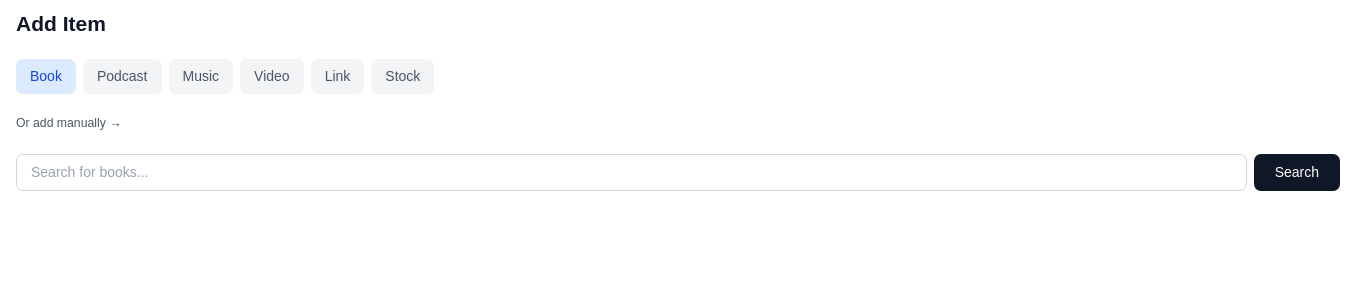
Test: AddItemForm - Episode Browsing › shows Browse Episodes button for podcast results
Switch to podcast type
Click the button "Podcast": [122, 76] box [83,59,162,94]
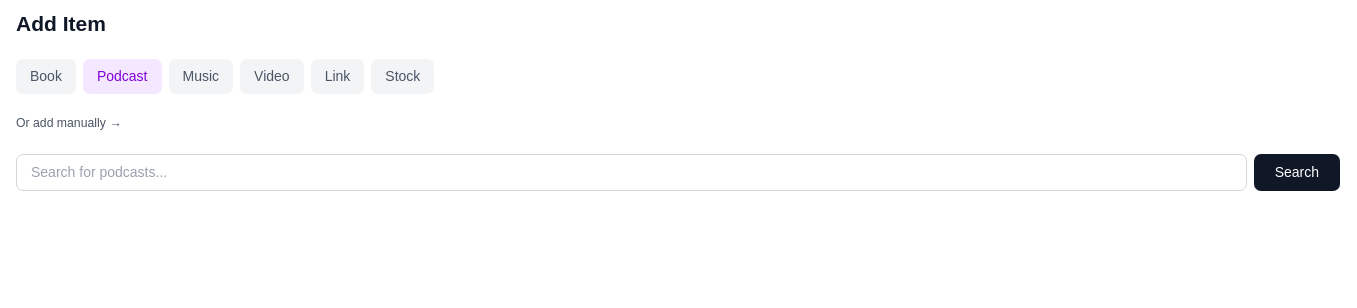
In the field with placeholder "Search for podcasts...": [631, 172] box [16,154,1247,190], type "test podcast"
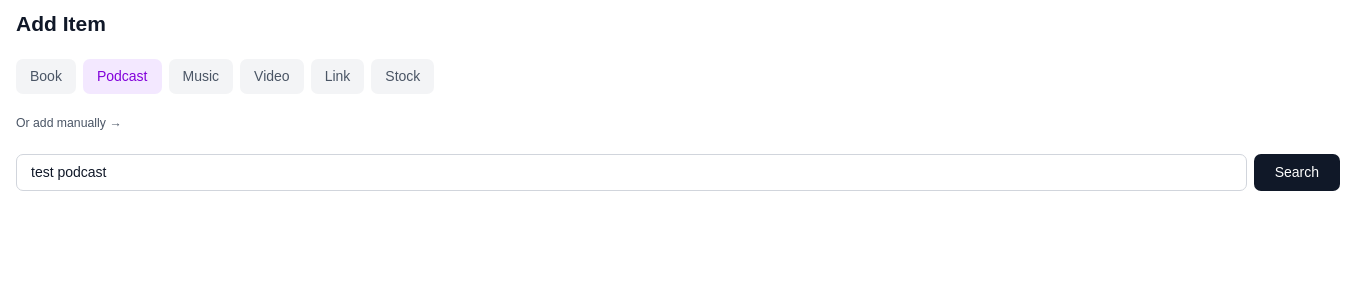
Click the button "Search": [1297, 172] box [1254,154,1340,190]
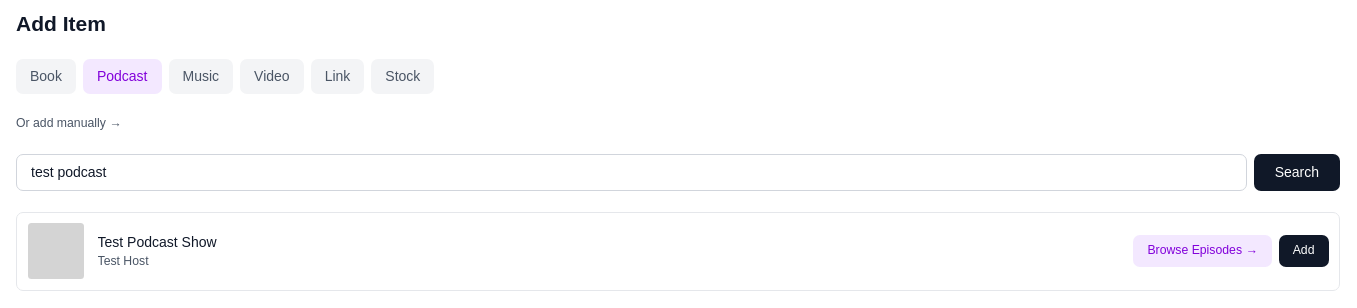
Expected: the heading "Test Podcast Show" is shown, [98,234,217,250]
Expected: the button "Browse Episodes →" is shown, [1133,235,1272,267]
